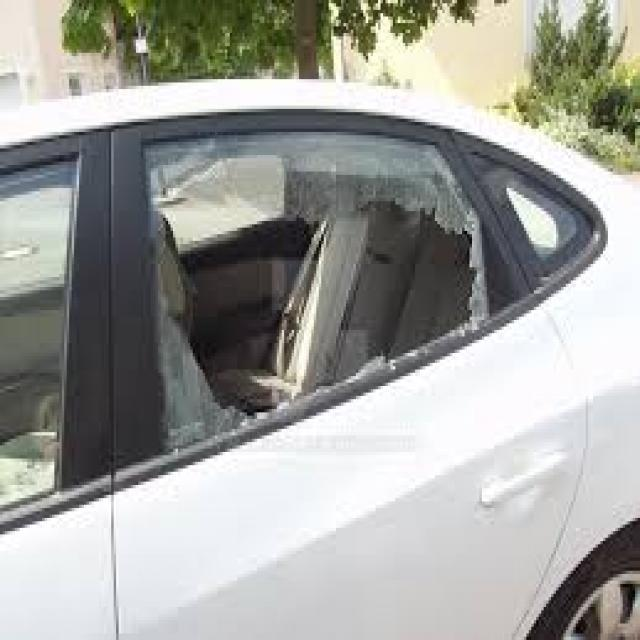damaged-window: (128, 121, 500, 452)
